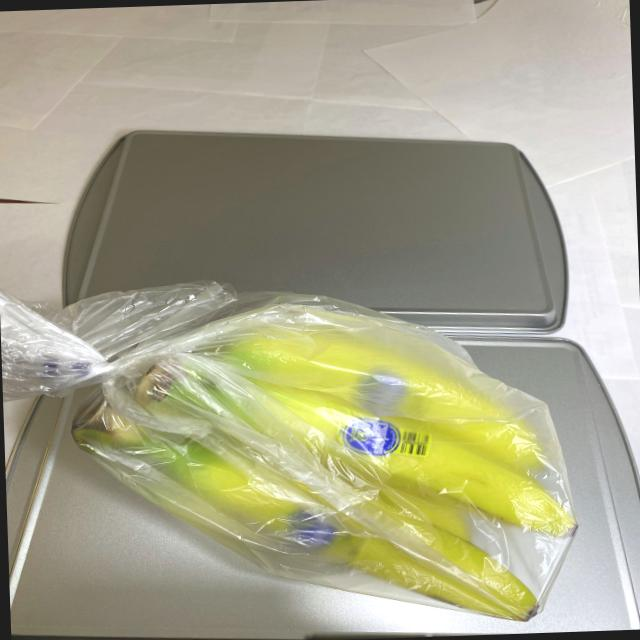banana: (64, 285, 582, 640)
